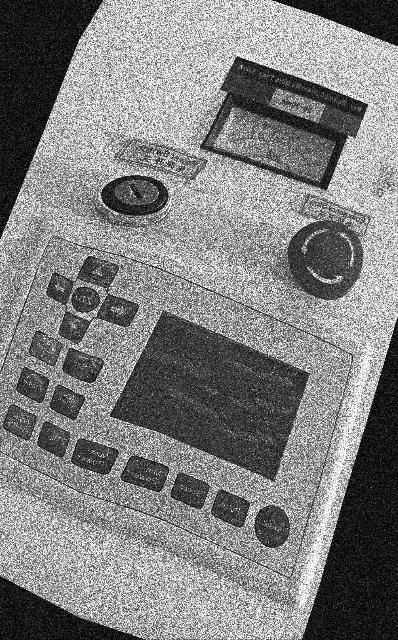Amp_Meter: (208, 96, 336, 184)
Display: (112, 311, 309, 480)
Down_button: (59, 312, 91, 343)
Emergency_Stop: (288, 220, 363, 300)
Enter_button: (29, 331, 61, 366)
Esc_button: (63, 349, 103, 383)
File_button: (37, 422, 70, 457)
Frame_button: (16, 367, 49, 402)
Left_button: (98, 295, 138, 327)
Max-Power_button: (72, 439, 118, 474)
Min-Power_button: (121, 456, 168, 491)
Origin_button: (50, 385, 85, 419)
Power_switch: (97, 175, 170, 224)
Pulse_button: (212, 490, 249, 527)
Reset_button: (255, 506, 289, 547)
Right_button: (46, 273, 73, 304)
Speed_button: (171, 473, 209, 509)
Start-Pause_button: (3, 405, 36, 440)
Up_button: (78, 256, 118, 288)
Z_U_button: (72, 287, 100, 312)
